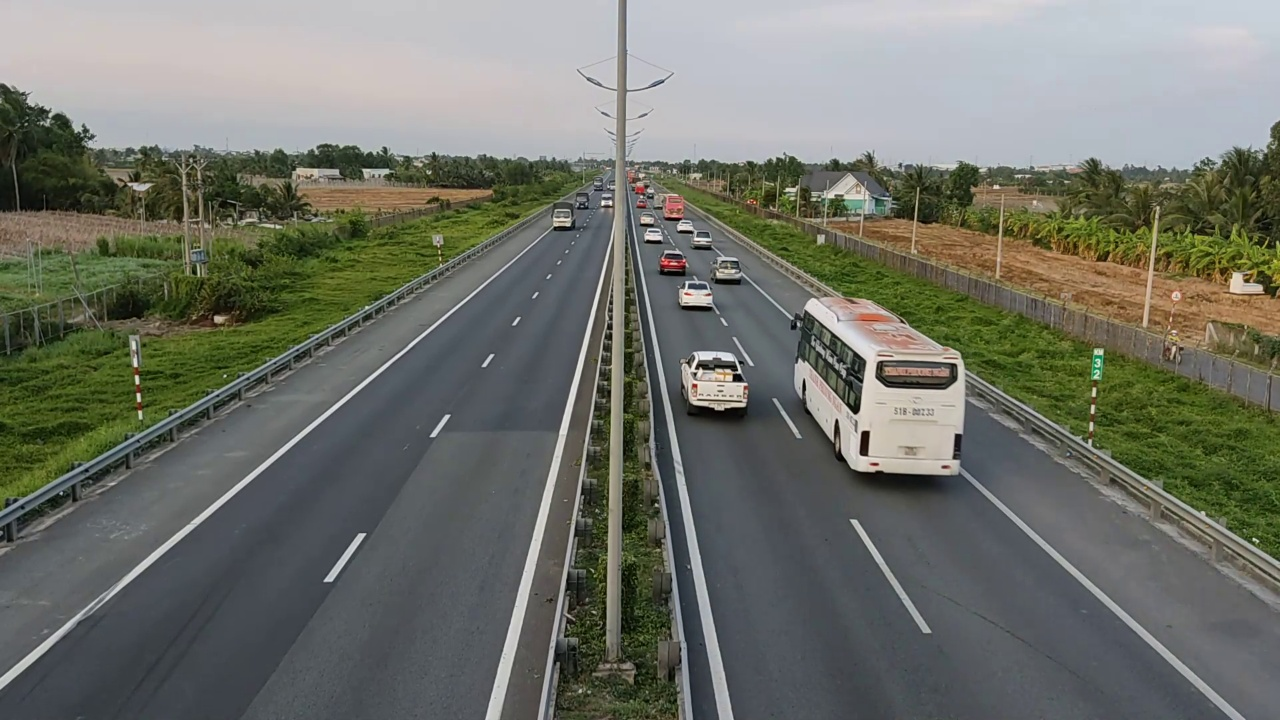bus: (791, 294, 967, 478)
car: (677, 349, 749, 414), (677, 278, 713, 308), (710, 255, 742, 283), (658, 249, 686, 273)
